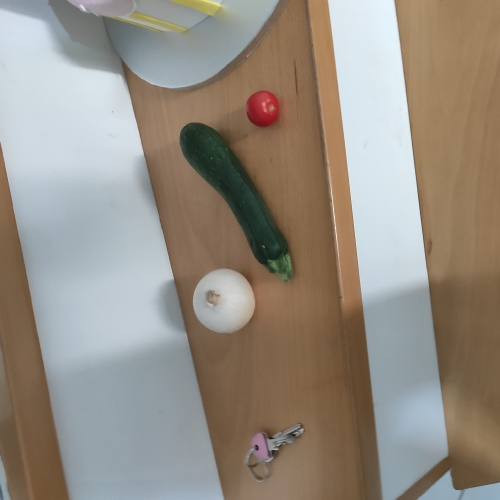cipolla: (191, 264, 260, 344)
pomodoro: (244, 89, 283, 125)
zucchine: (181, 122, 307, 282)
